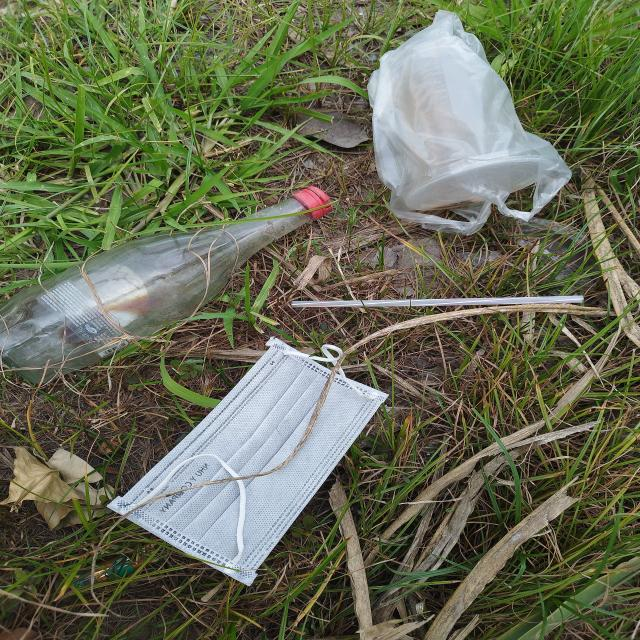bottle: (0, 186, 334, 385)
drinking straw: (290, 294, 583, 307)
mask: (108, 336, 390, 587)
trash bag: (369, 10, 572, 235)
